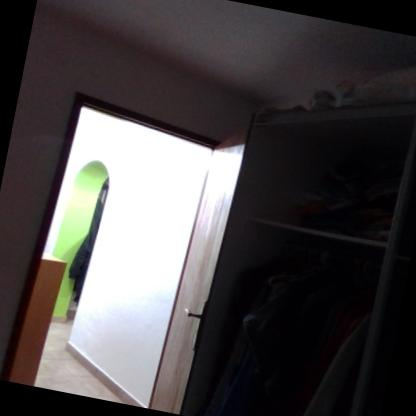open: (0, 85, 258, 415)
